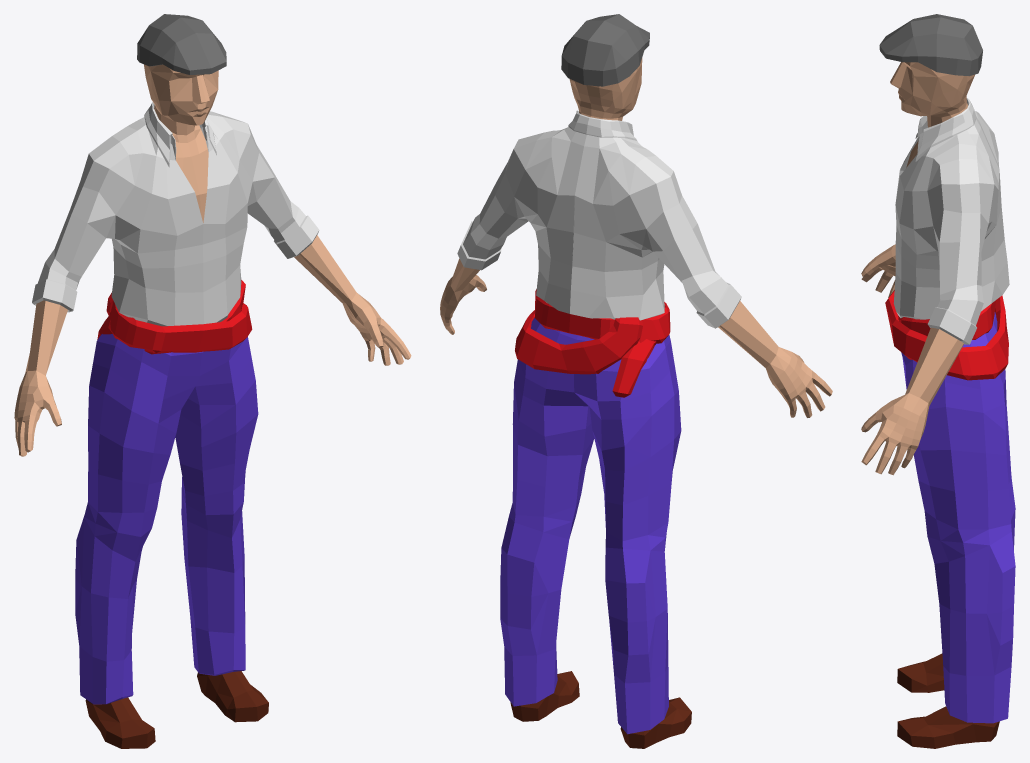
Rendered from villager.glb.
3 renders of one model, left to right at view 1: azimuth 30°, elevation 25°; view 2: azimuth 150°, elevation 25°; view 3: azimuth 270°, elevation 25°, orthographic.
Parts seen in each view (by area): view 1: Villager2; view 2: Villager2; view 3: Villager2.
Part boxes in pixels (left/top/right/bottom): Villager2: left=14, top=14, right=411, bottom=748; Villager2: left=440, top=14, right=832, bottom=748; Villager2: left=861, top=14, right=1015, bottom=748.
Size of the model in its own units: 1.1 by 1.92 by 0.3866.
